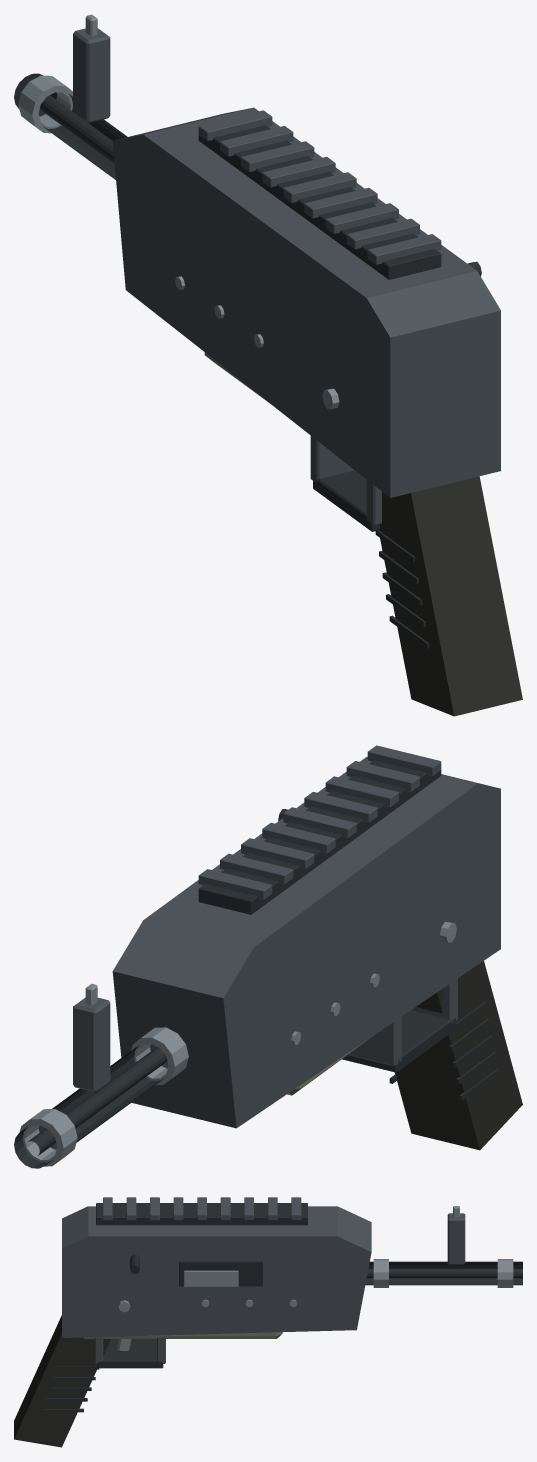
File: weapon_swift9.glb
3 renders of one model, top to bottom at view 1: azimuth 30°, elevation 25°; view 2: azimuth 150°, elevation 25°; view 3: azimuth 270°, elevation 25°, orthographic. The views are drawn at different scales.
Visible parts, largest first — view 1: Geometry_weapon_swift9; view 2: Geometry_weapon_swift9; view 3: Geometry_weapon_swift9.
Boxes of the visible parts, x1=… form: Geometry_weapon_swift9: x1=14, y1=14, x2=522, y2=716; Geometry_weapon_swift9: x1=14, y1=745, x2=522, y2=1168; Geometry_weapon_swift9: x1=14, y1=1197, x2=522, y2=1447.
Bounding box in the file's own units: 0.1051 × 0.262 × 0.521.
